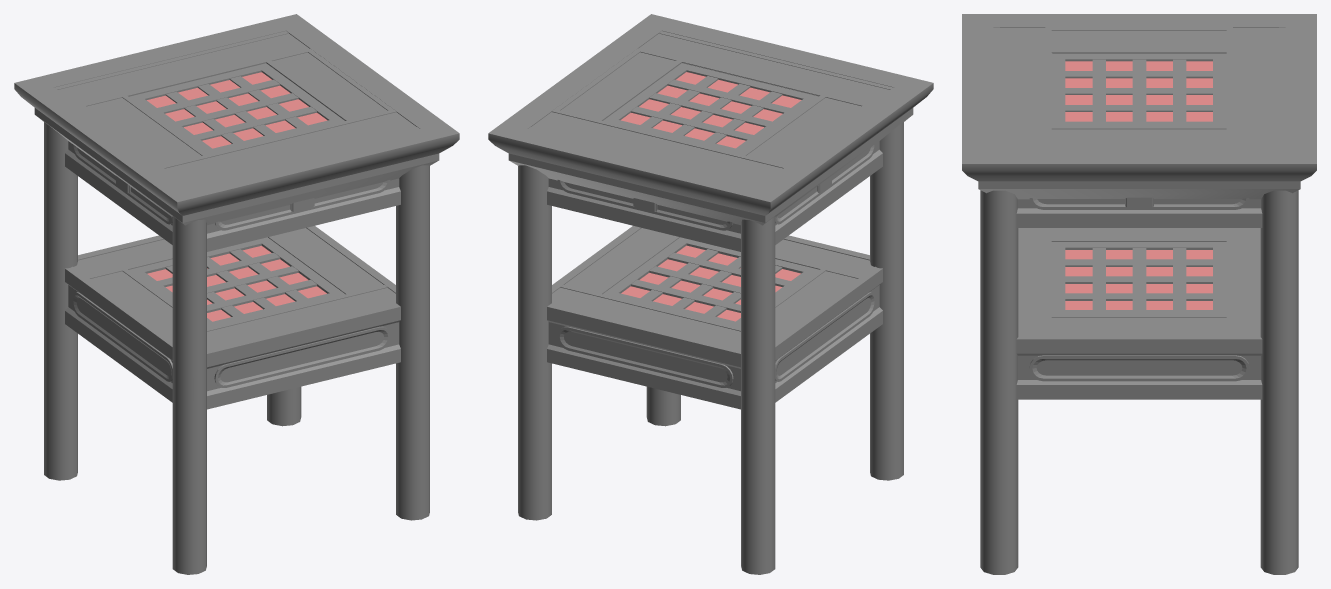
Rendered from COL_SM_ENV_KNVLLG03_Yagura.gltf.
3 views of the same model, side by side, from view 1: azimuth 30°, elevation 25°; view 2: azimuth 150°, elevation 25°; view 3: azimuth 270°, elevation 25° (orthographic). The views are drawn at different scales.
Parts seen in each view (by area): view 1: COL_SM_ENV_KNVLLG03_Yagura; view 2: COL_SM_ENV_KNVLLG03_Yagura; view 3: COL_SM_ENV_KNVLLG03_Yagura.
Part boxes in pixels (x1,y1,x2,y2): COL_SM_ENV_KNVLLG03_Yagura: (14, 14, 459, 574); COL_SM_ENV_KNVLLG03_Yagura: (488, 14, 933, 574); COL_SM_ENV_KNVLLG03_Yagura: (962, 14, 1316, 574).
Size of the model in its own units: 14.49 by 18.87 by 14.49.
